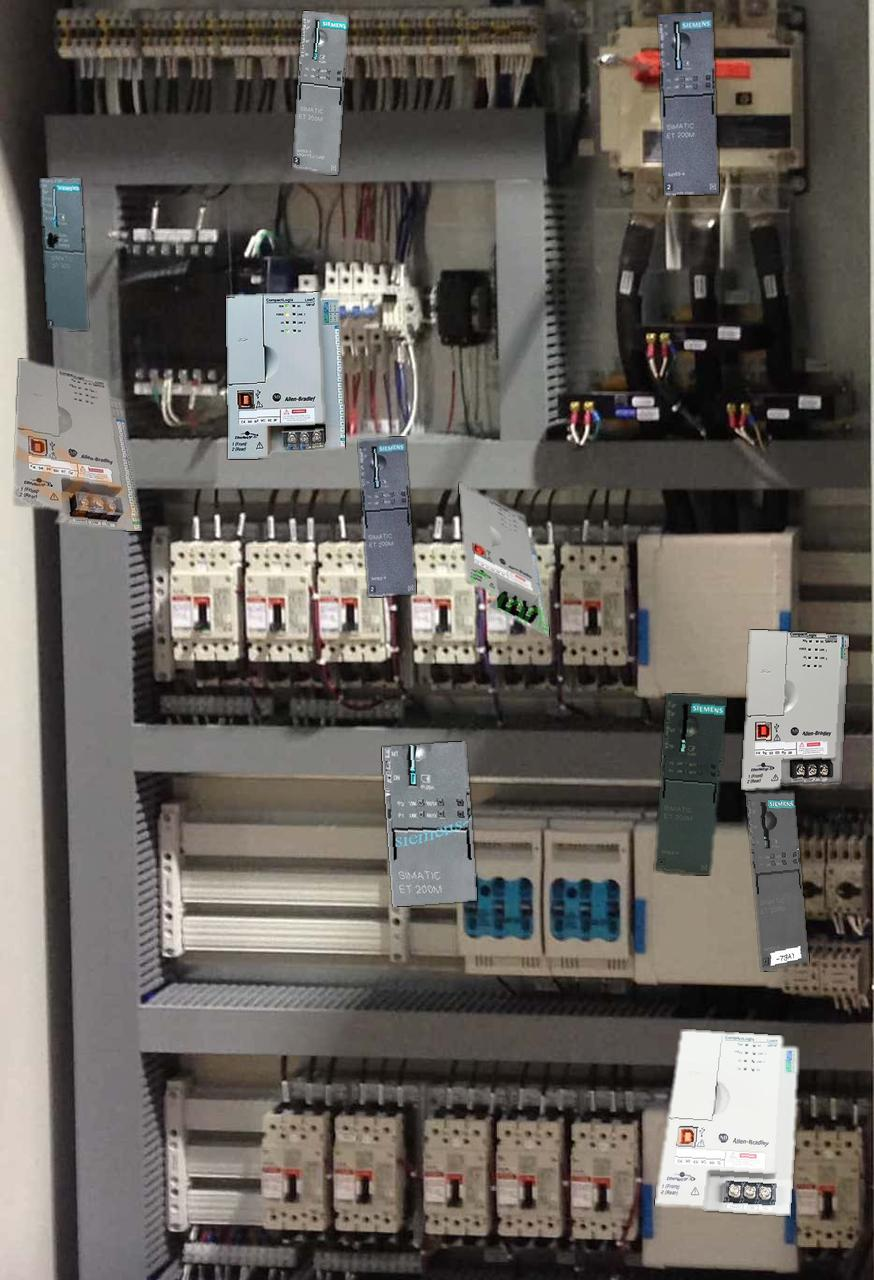AllenBradley: (655, 1030, 797, 1215), (14, 359, 141, 530), (226, 292, 344, 458), (741, 630, 848, 790), (459, 483, 548, 636)
Siemens: (40, 178, 87, 329)
